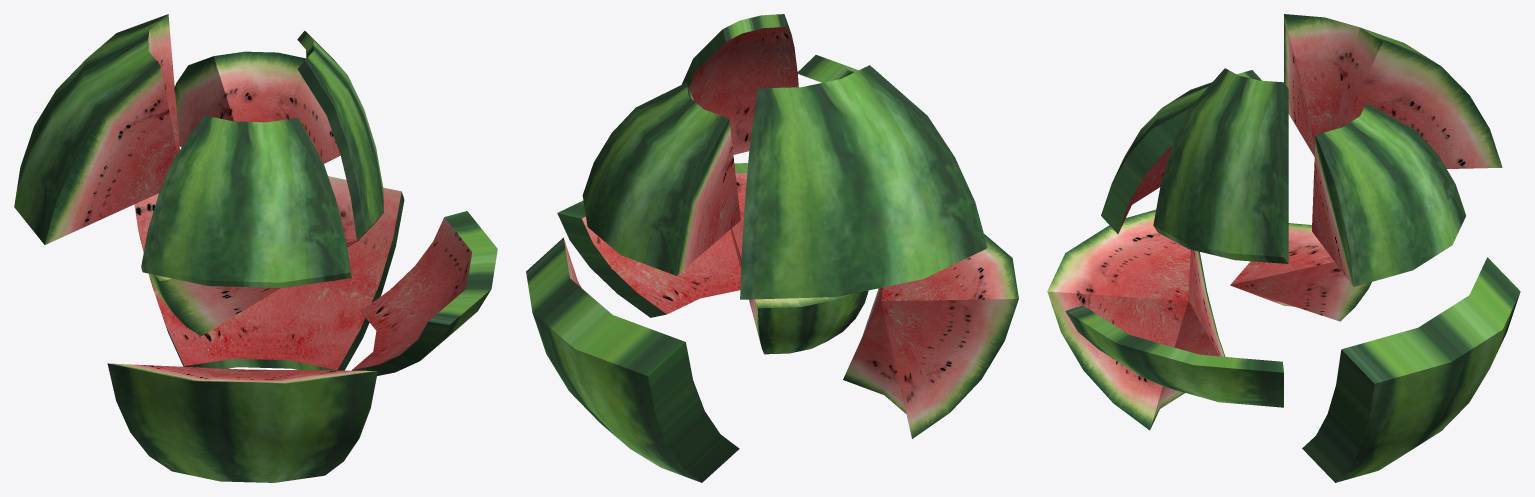
File: FoodDead.fbx
3 renders of one model, left to right at view 1: azimuth 30°, elevation 25°; view 2: azimuth 150°, elevation 25°; view 3: azimuth 270°, elevation 25°, orthographic. The views are drawn at different scales.
Visible parts, largest first — view 1: Food.006, Food.004, Food.002, Food, Food.005, Food.001, Food.007, Food.003; view 2: Food.002, Food, Food.001, Food.004, Food.007, Food.005, Food.003, Food.006; view 3: Food, Food.007, Food.001, Food.004, Food.002, Food.005, Food.003, Food.006.
Part boxes in pixels (bbox=[...]): Food.006: bbox=[141, 115, 351, 287]; Food.004: bbox=[107, 363, 377, 482]; Food.002: bbox=[14, 14, 179, 244]; Food: bbox=[134, 176, 404, 370]; Food.005: bbox=[351, 211, 497, 375]; Food.001: bbox=[174, 51, 340, 163]; Food.007: bbox=[297, 30, 383, 241]; Food.003: bbox=[149, 239, 359, 335]; Food.002: bbox=[740, 65, 987, 299]; Food: bbox=[526, 237, 739, 482]; Food.001: bbox=[582, 82, 740, 275]; Food.004: bbox=[843, 234, 1018, 438]; Food.007: bbox=[682, 14, 798, 154]; Food.005: bbox=[557, 163, 748, 317]; Food.003: bbox=[730, 211, 868, 354]; Food.006: bbox=[797, 55, 858, 82]; Food: bbox=[1302, 257, 1520, 482]; Food.007: bbox=[1153, 68, 1288, 263]; Food.001: bbox=[1312, 103, 1466, 286]; Food.004: bbox=[1047, 209, 1225, 430]; Food.002: bbox=[1284, 14, 1502, 168]; Food.005: bbox=[1065, 305, 1283, 407]; Food.003: bbox=[1230, 223, 1371, 321]; Food.006: bbox=[1101, 70, 1261, 233].
Size of the model in its own units: 0.2942 by 0.2942 by 0.2547.
